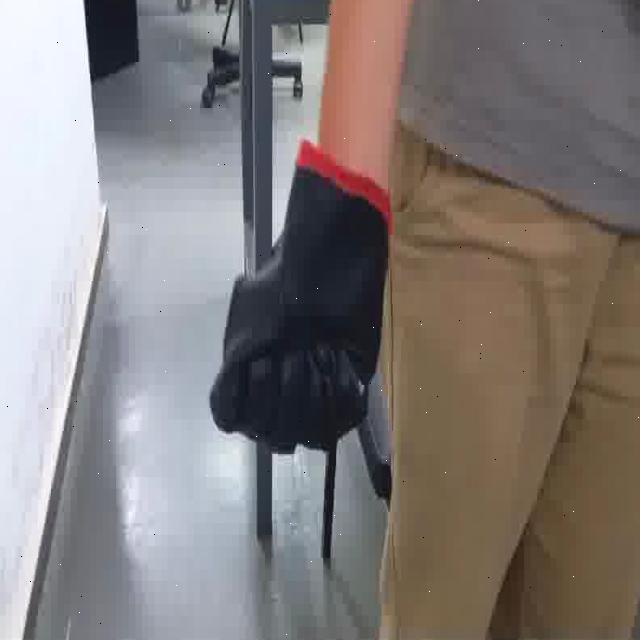Gloves: (211, 142, 393, 457)
